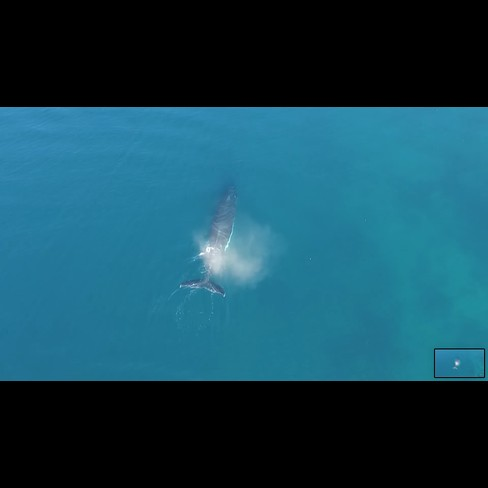hump: (174, 177, 243, 302)
